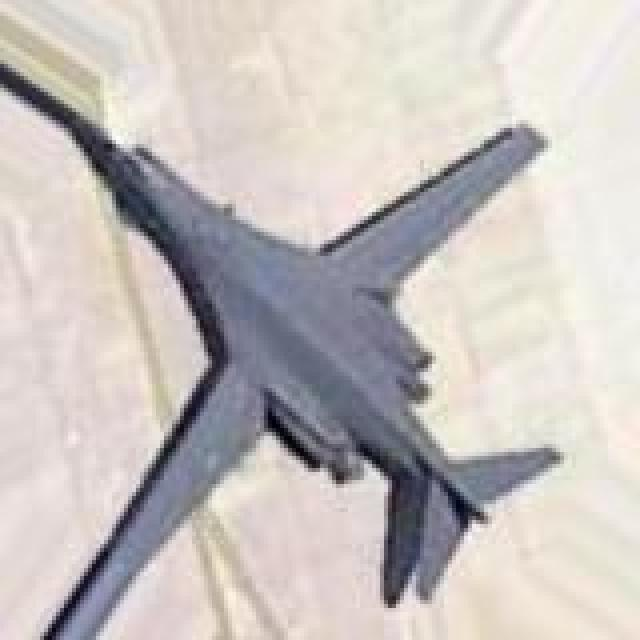B-1_TopDown: (0, 44, 564, 636)
